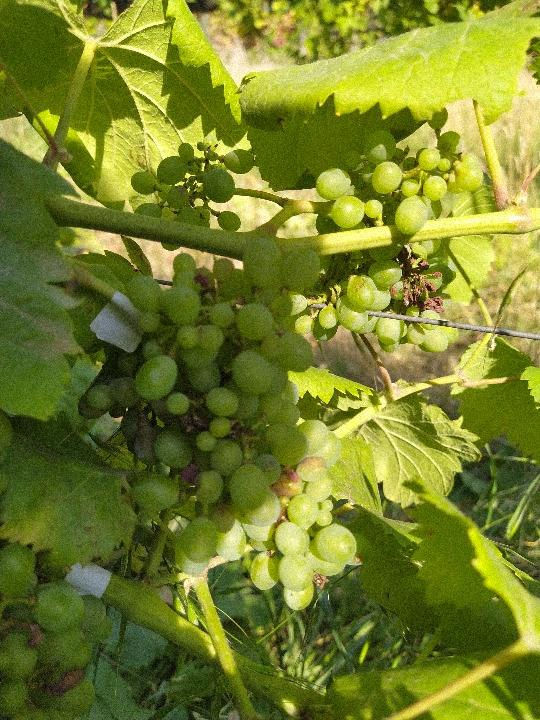grape: (76, 237, 362, 616), (314, 104, 485, 355), (129, 138, 254, 254)
